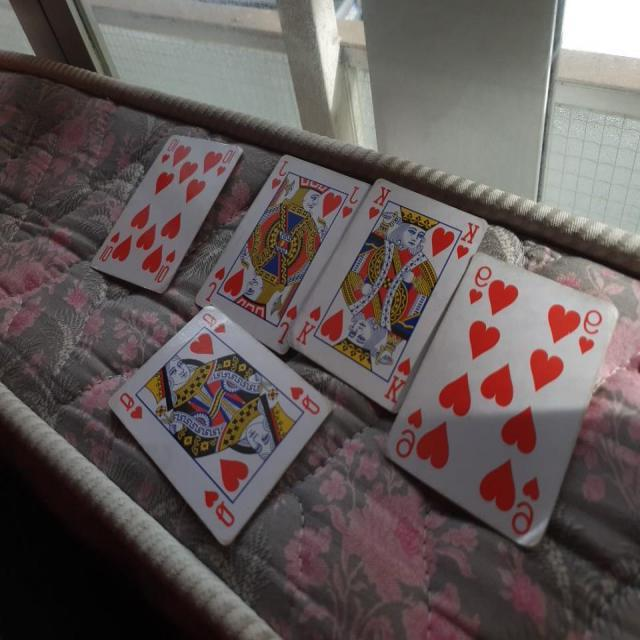10 of hearts: (86, 130, 244, 302)
9 of hearts: (384, 252, 616, 572)
jack of hearts: (194, 150, 368, 361)
king of hearts: (286, 176, 494, 412)
queen of hearts: (110, 308, 336, 561)
